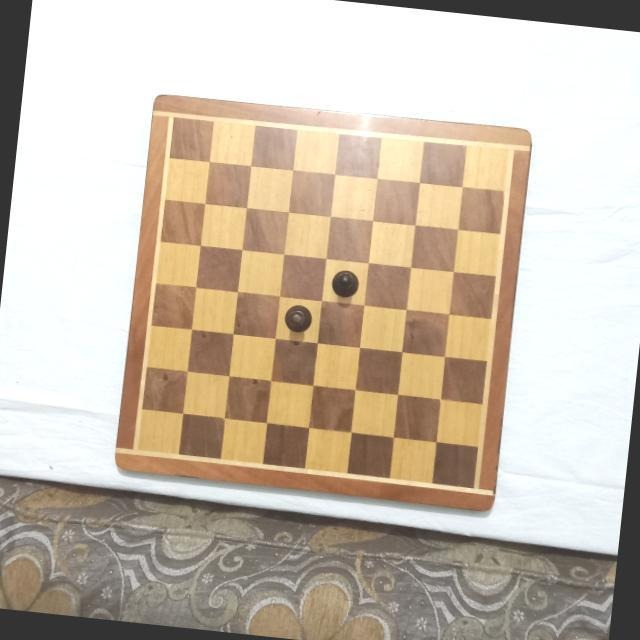black-pawn: (281, 301, 315, 333), (330, 266, 362, 298)
